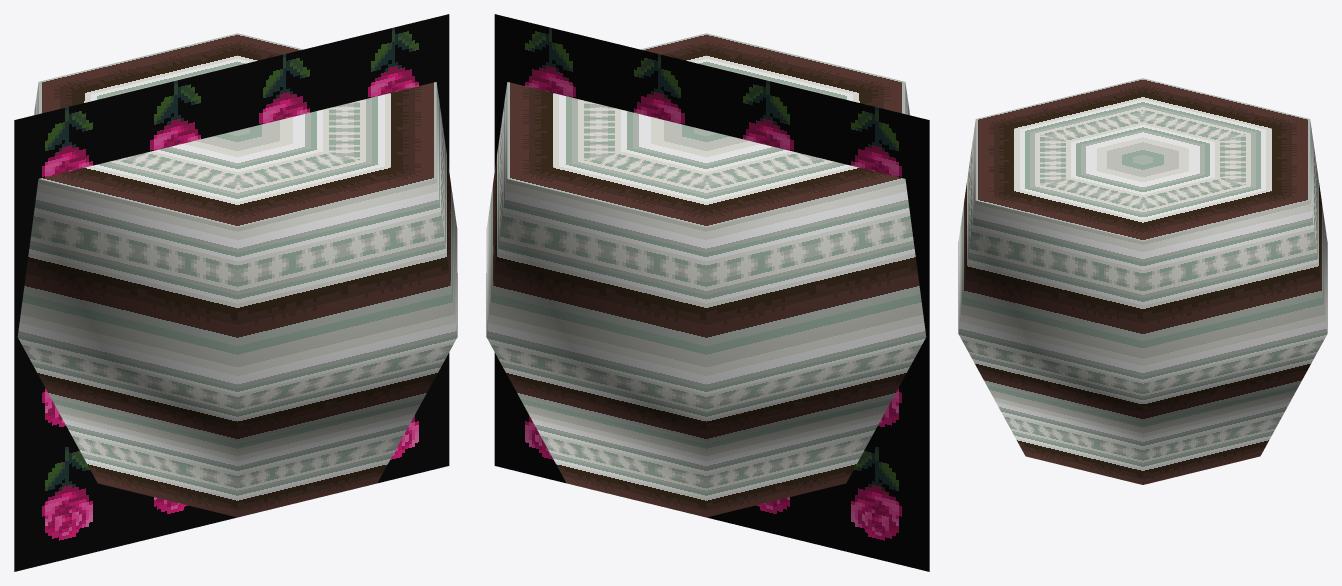
The model's file is 0403hana_r_rose_.gltf.
The picture shows the model from 3 angles, left to right: view 1: azimuth 30°, elevation 25°; view 2: azimuth 150°, elevation 25°; view 3: azimuth 270°, elevation 25°; orthographic projection. The views are drawn at different scales.
Visible parts, largest first — view 1: 0403hana_r_rose_; view 2: 0403hana_r_rose_; view 3: 0403hana_r_rose_.
Boxes of the visible parts, left/top/right/bottom form: 0403hana_r_rose_: left=14, top=14, right=457, bottom=571; 0403hana_r_rose_: left=486, top=14, right=929, bottom=571; 0403hana_r_rose_: left=958, top=78, right=1327, bottom=484.
Size of the model in its own units: 0.635 by 0.6189 by 0.5459.
Materials: 2 (2 with a texture image).
